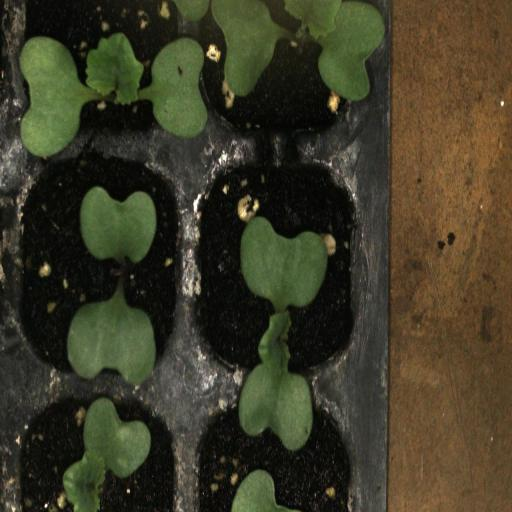Folha: (62, 397, 151, 512), (67, 291, 157, 387), (80, 186, 157, 263), (231, 469, 291, 512)
Germinacao: (189, 160, 372, 386), (14, 161, 189, 387), (189, 0, 372, 158), (16, 0, 187, 158)
